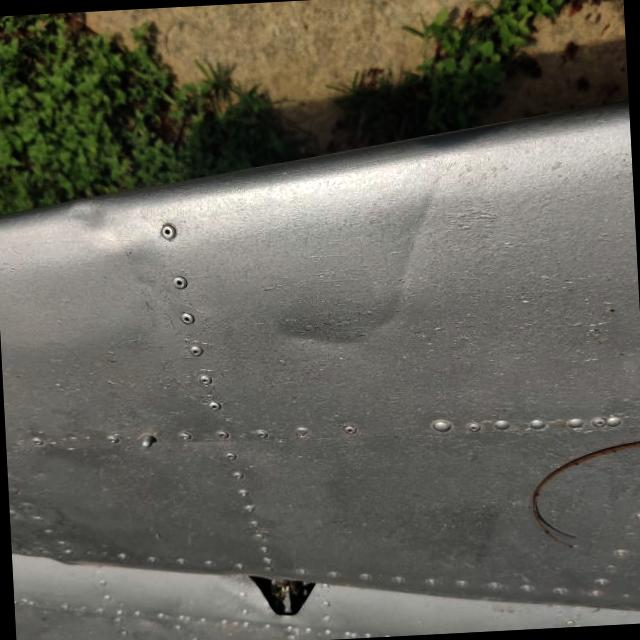dent: (323, 168, 481, 346), (250, 278, 386, 402), (44, 174, 128, 259)
